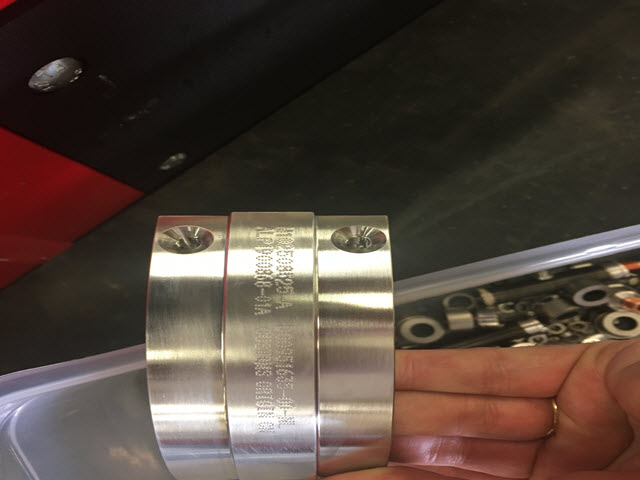character: (253, 306, 273, 317), (273, 285, 295, 295), (274, 277, 294, 288), (274, 300, 293, 311), (276, 247, 294, 258), (251, 295, 272, 303), (252, 280, 273, 288), (253, 268, 274, 276), (255, 237, 274, 245), (275, 257, 294, 265), (252, 302, 273, 309), (255, 254, 273, 262), (253, 288, 270, 296), (255, 261, 274, 268)
